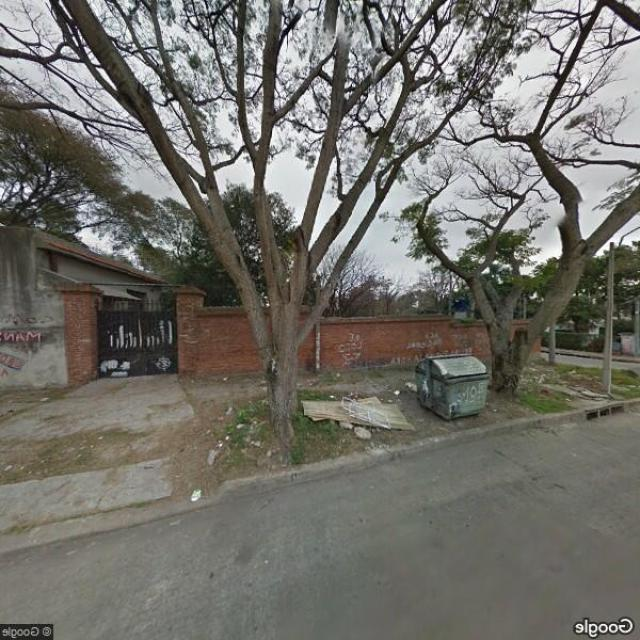garbage container: (404, 344, 498, 424)
